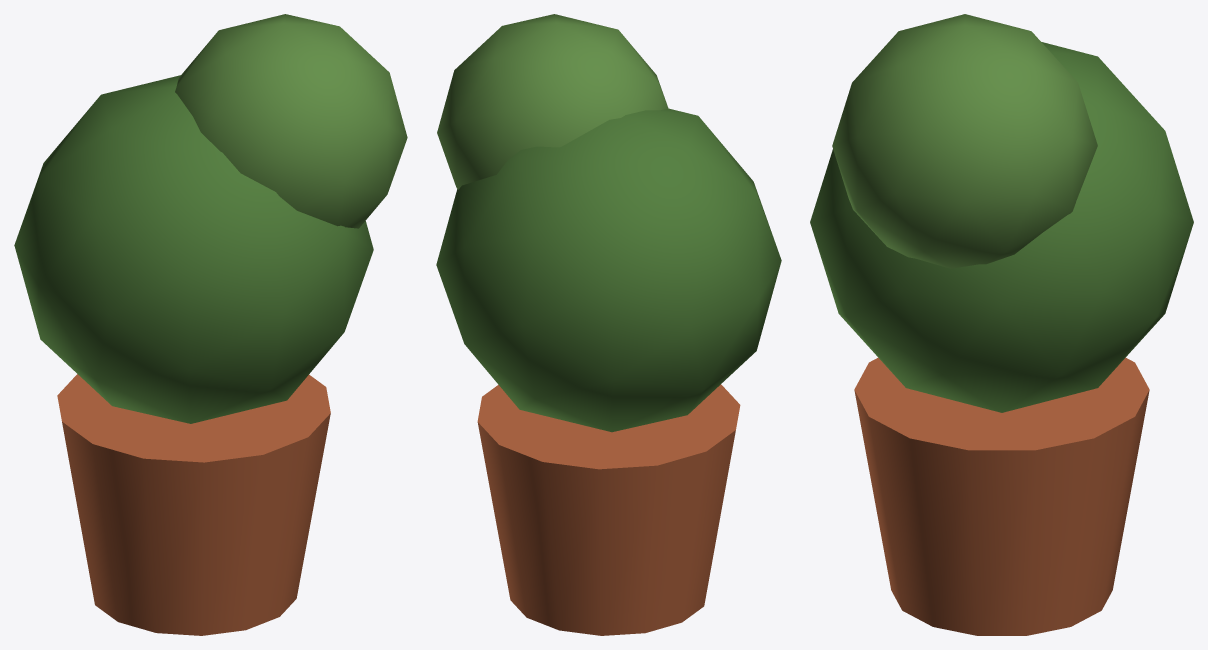
Rendered from plant-pot.obj.
The picture shows the model from 3 angles, left to right: view 1: azimuth 30°, elevation 25°; view 2: azimuth 150°, elevation 25°; view 3: azimuth 270°, elevation 25°; orthographic projection. The views are drawn at different scales.
Visible parts, largest first — view 1: plant-pot_1, plant-pot_0, plant-pot_2; view 2: plant-pot_1, plant-pot_0, plant-pot_2; view 3: plant-pot_1, plant-pot_0, plant-pot_2.
Boxes of the visible parts, <box> form: plant-pot_1: <box>14,75,373,423</box>; plant-pot_0: <box>57,374,330,635</box>; plant-pot_2: <box>175,14,407,228</box>; plant-pot_1: <box>436,108,781,432</box>; plant-pot_0: <box>477,384,740,635</box>; plant-pot_2: <box>437,14,668,189</box>; plant-pot_1: <box>810,42,1193,412</box>; plant-pot_0: <box>854,357,1149,635</box>; plant-pot_2: <box>832,14,1097,268</box>.
Size of the model in its own units: 0.56 by 0.9 by 0.52.
